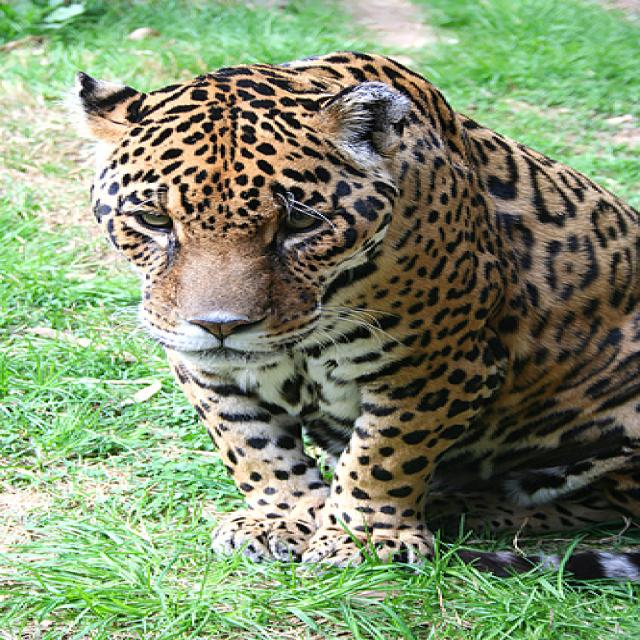Leopard: (68, 46, 634, 582)
